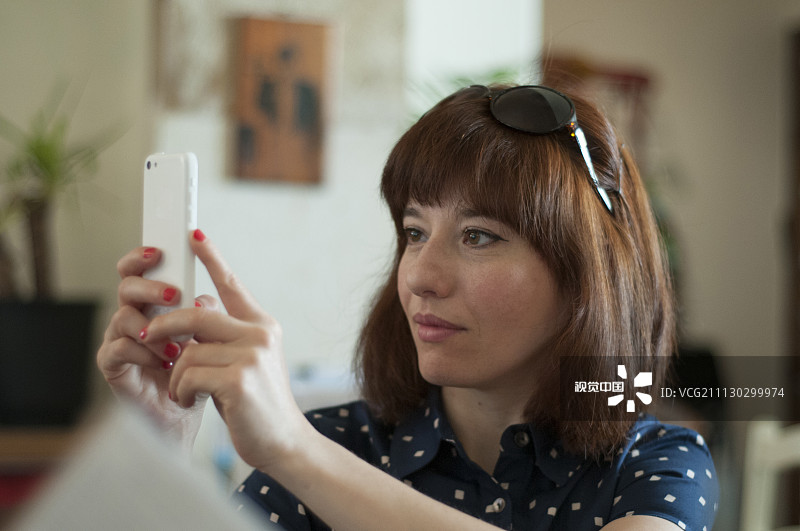taking photos: (89, 141, 352, 496)
